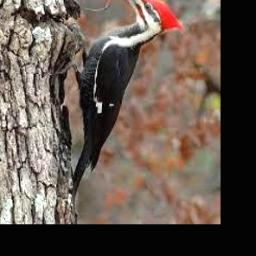Woodpecker: (71, 0, 183, 207)
